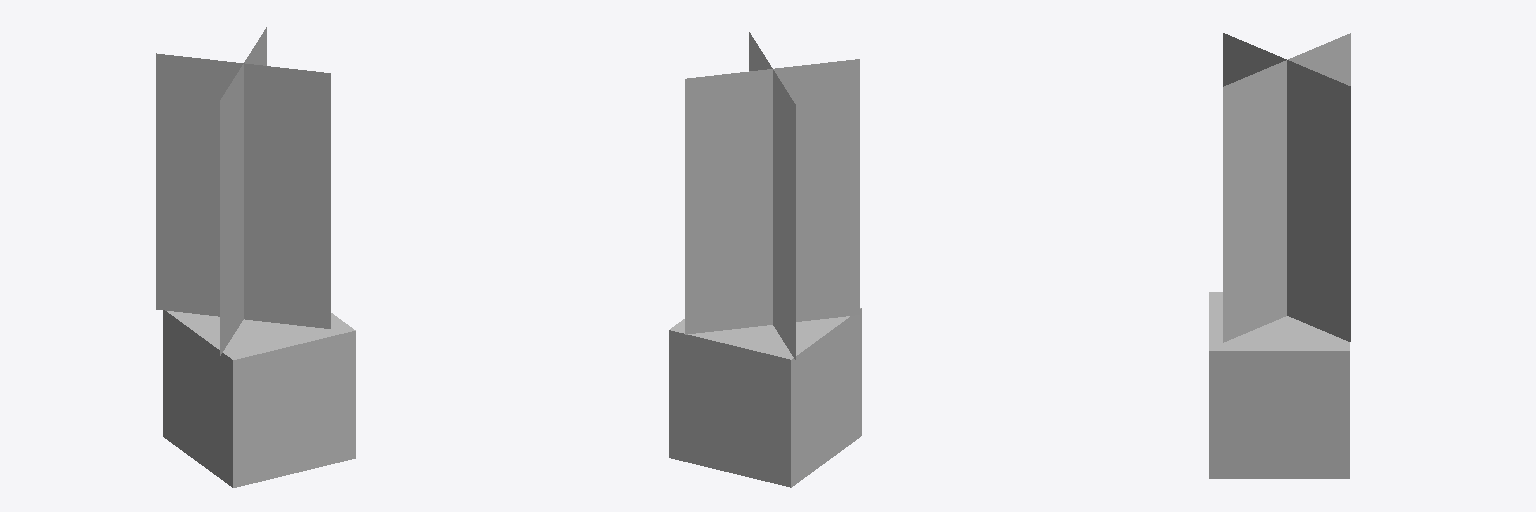
Rendered from Grass_Block_With_High_Grass.obj.
3 renders of one model, left to right at view 1: azimuth 30°, elevation 25°; view 2: azimuth 150°, elevation 25°; view 3: azimuth 270°, elevation 25°, orthographic.
Size of the model in its own units: 1.05 by 3 by 1.01.